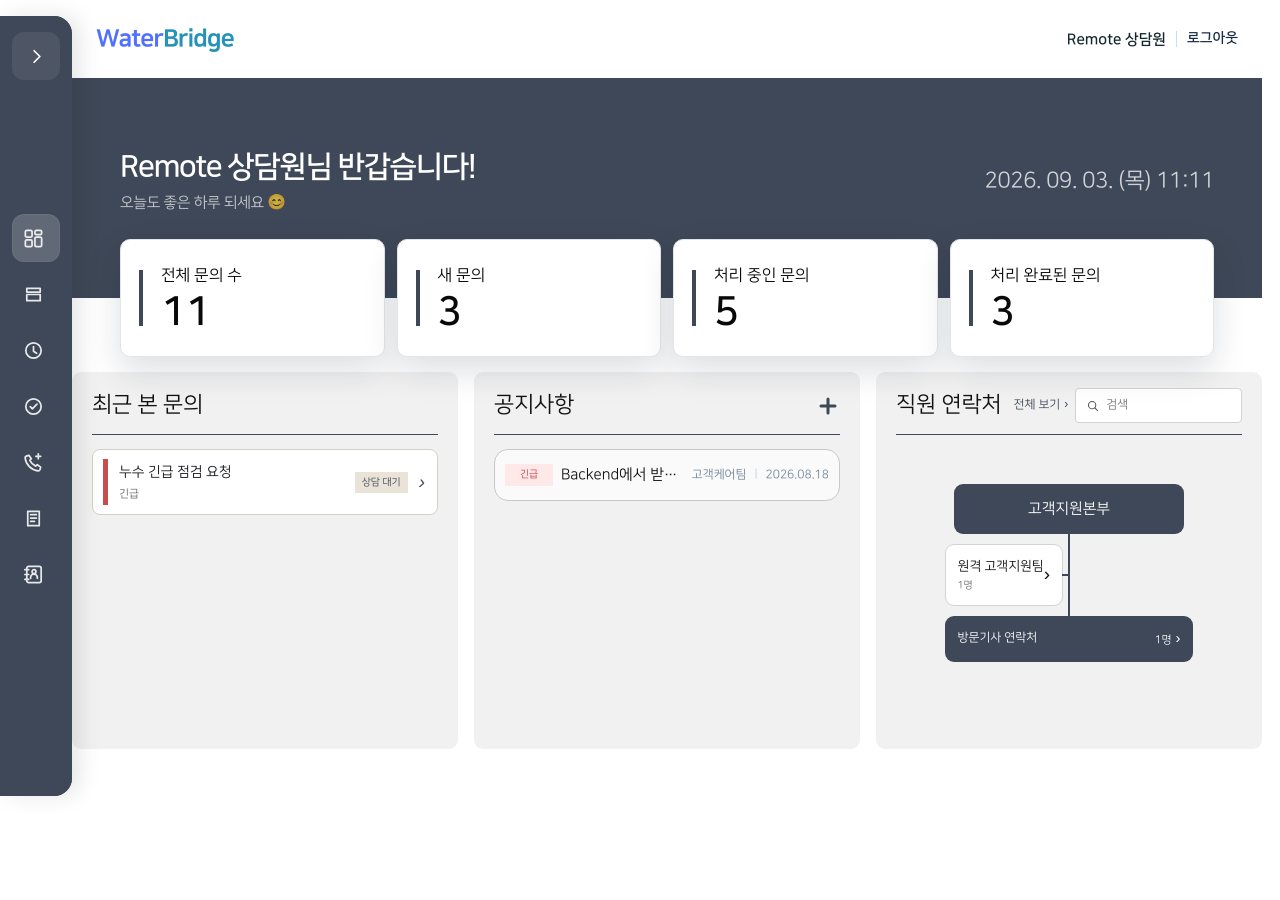
Test: 상담사 Remote 첫 상세 패널 경로 › dashboard 문의 클릭은 현재 화면을 유지하고 Remote 첫 패널을 연다
Click the button "누수 긴급 점검 요청 긴급 상담 대기 ›" at point(175, 472), box top-left (92, 449), bottom-right (438, 515)
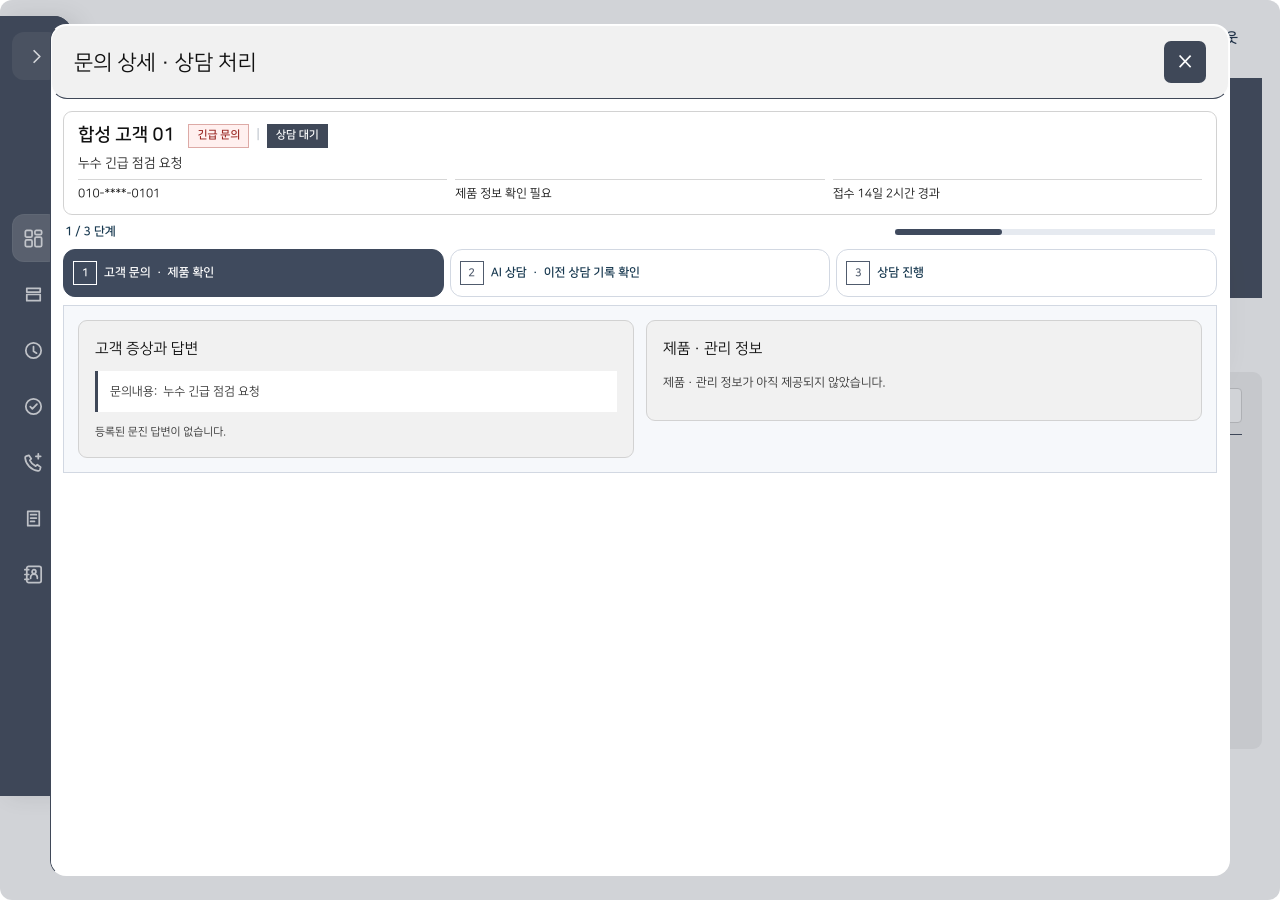
Now the dialog is shown
Now the element named "상담 문의 상세" is shown, box top-left (63, 111), bottom-right (1217, 473)
Now the heading "합성 고객 01" is shown, box top-left (78, 122), bottom-right (174, 150)
Click the button with aria-label "상담 2단계: AI 상담 · 이전 상담 기록 확인" at point(640, 273), box top-left (450, 249), bottom-right (830, 297)
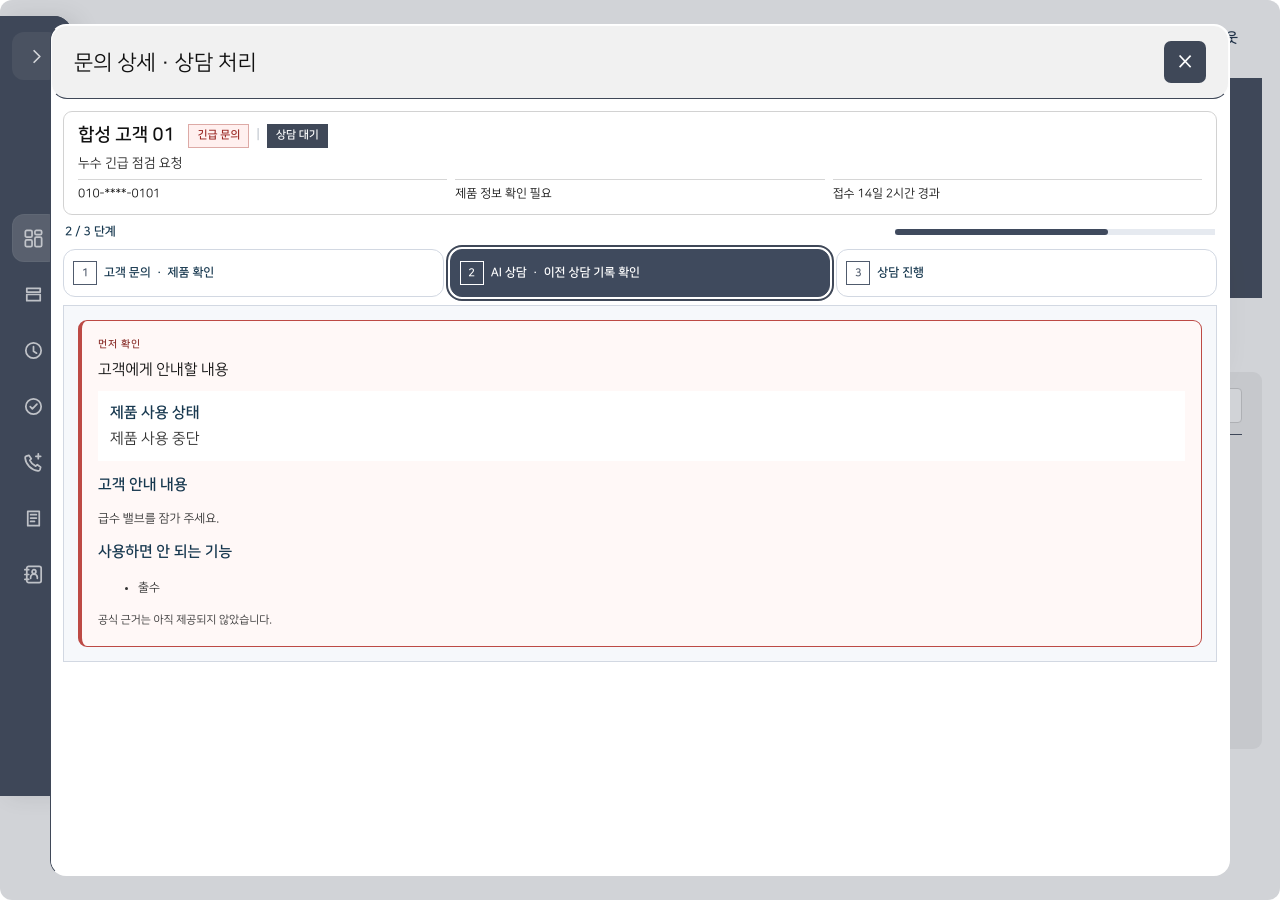
Now the heading "고객에게 안내할 내용" is shown, box top-left (98, 361), bottom-right (228, 378)
Click the button with aria-label "상담 3단계: 상담 진행" at point(901, 273), box top-left (836, 249), bottom-right (1217, 297)
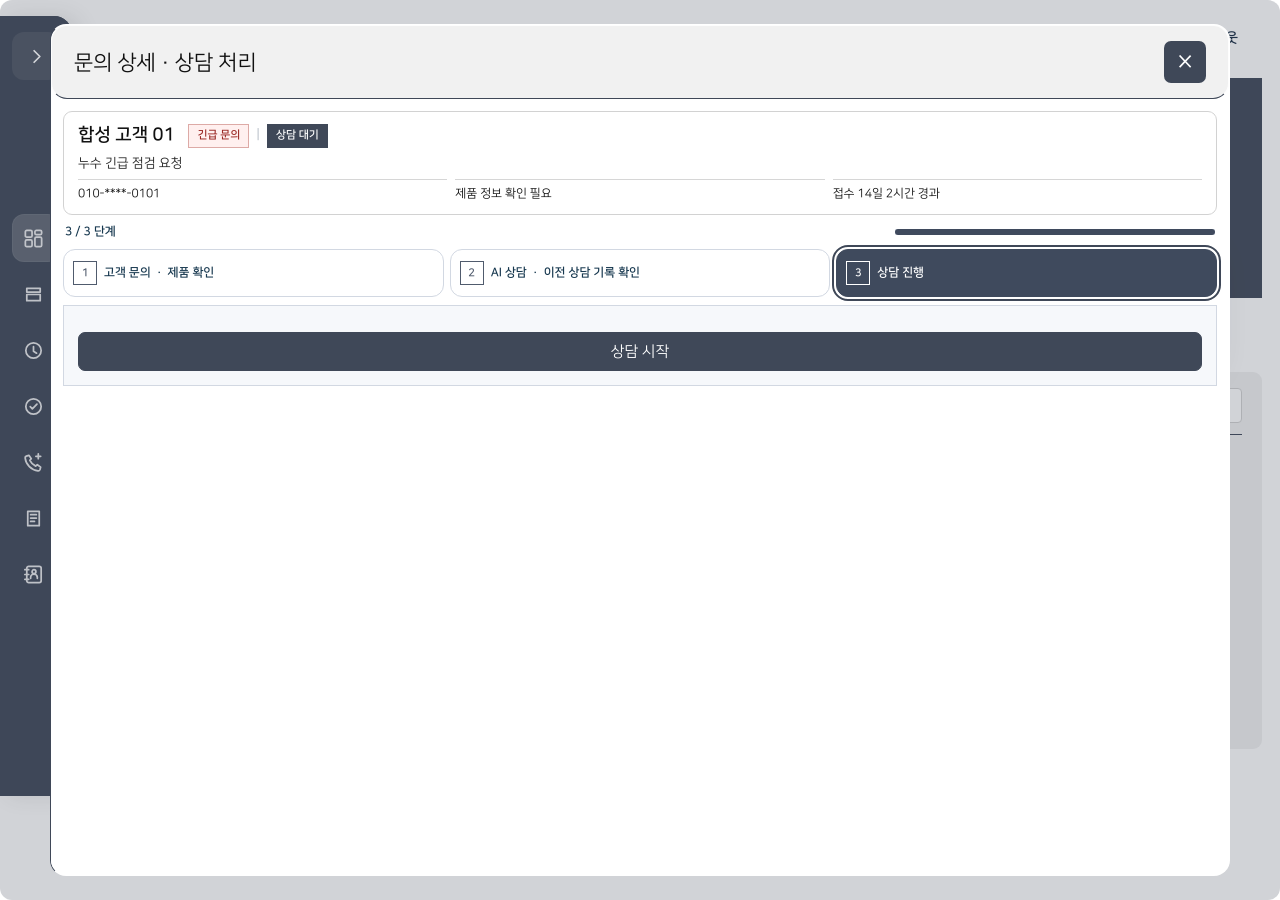
Now the element named "상담 처리 작업" is shown, box top-left (78, 320), bottom-right (1202, 371)
